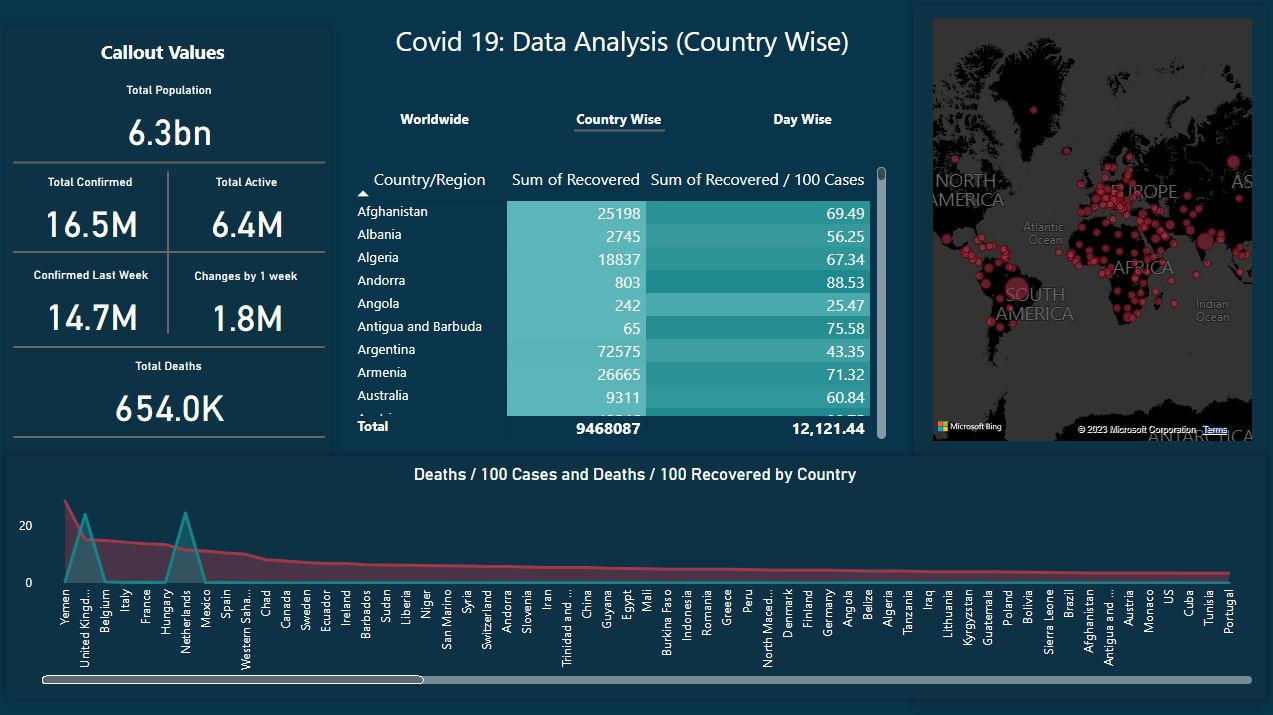

Layout of this report page (visuals, bound fields, positions):
{"tool":"powerbi","page":{"name":"Country Wise","canvas":[1280,720],"ordinal":1},"visuals":[{"type":"shape","box":[0,21,344,681],"z":0},{"type":"shape","box":[907.8,0,372.2,720.2],"z":1000},{"type":"map","title":" Total Cases by Country","fields":{"Category":["country_wise_latest.Country/Region"],"Size":["Sum(country_wise_latest.Confirmed)"]},"box":[932,17,329,433],"z":2000},{"type":"card","title":"Confirmed Last Week","fields":{"Values":["Sum(country_wise_latest.Confirmed last week)"]},"box":[18.5,272.1,154.5,78.7],"z":3000},{"type":"card","title":"Total Active","fields":{"Values":["Sum(country_wise_latest.Active)"]},"box":[173,178.8,155.5,77.8],"z":4000},{"type":"card","title":"Changes by 1 week","fields":{"Values":["Sum(country_wise_latest.1 week change)"]},"box":[172,273.1,156.5,77.8],"z":5000},{"type":"card","title":"Total Population","fields":{"Values":["Sum(WorldOMeter Data.Population)"]},"box":[18.5,87.5,310,78.7],"z":6000},{"type":"card","title":"Total Confirmed","fields":{"Values":["Sum(country_wise_latest.Confirmed)"]},"box":[17.5,178.8,154.5,78.7],"z":7000},{"type":"card","title":"Total Deaths","fields":{"Values":["Sum(country_wise_latest.Deaths)"]},"box":[17.5,362.5,311,78.7],"z":8000},{"type":"textbox","box":[38.9,37.9,256.6,40.8],"z":9000},{"type":"shape","box":[162.3,174.9,19.4,163.3],"z":10000},{"type":"shape","box":[17.5,240.1,311,32.1],"z":11000},{"type":"shape","box":[17.5,153.6,311,25.3],"z":12000},{"type":"shape","box":[17.5,323.6,311,54.4],"z":13000},{"type":"shape","box":[17.5,414,311,54.4],"z":14000},{"type":"textbox","box":[395,21,472,55],"z":15000},{"type":"pageNavigator","box":[352,97,543,50],"z":16000},{"type":"shape","box":[577.8,122,91.3,24.6],"z":17000},{"type":"shape","box":[0,450,1280,263],"z":18000},{"type":"areaChart","title":"Deaths / 100 Cases and Deaths / 100 Recovered by Country","fields":{"Y":["Sum(country_wise_latest.Deaths / 100 Cases)"],"Category":["country_wise_latest.Country/Region"],"Y2":["Sum(country_wise_latest.Deaths / 100 Recovered)"]},"box":[18,468,1243,225],"z":19000},{"type":"pivotTable","fields":{"Values":["Sum(country_wise_latest.Recovered)","Sum(country_wise_latest.Recovered / 100 Cases)"],"Rows":["country_wise_latest.Country/Region"]},"box":[352,166,543,282],"z":20000}]}

Visuals, with their boxes in screenshot pixels (x1, y1, x2, y2), scaled from the page's 1280x720 canvas onto the 1273x715 screenshot:
shape: (0,21,342,697)
shape: (903,0,1272,714)
" Total Cases by Country" map: (927,17,1254,447)
"Confirmed Last Week" card: (18,270,172,348)
"Total Active" card: (172,178,327,255)
"Changes by 1 week" card: (171,271,327,348)
"Total Population" card: (18,87,327,165)
"Total Confirmed" card: (17,178,171,256)
"Total Deaths" card: (17,360,327,438)
textbox: (39,38,294,78)
shape: (161,174,181,336)
shape: (17,238,327,270)
shape: (17,153,327,178)
shape: (17,321,327,375)
shape: (17,411,327,465)
textbox: (393,21,862,75)
pageNavigator: (350,96,890,146)
shape: (575,121,665,146)
shape: (0,447,1272,708)
"Deaths / 100 Cases and Deaths / 100 Recovered by Country" areaChart: (18,465,1254,688)
pivotTable - Sum(country_wise_latest.Recovered) x Sum(country_wise_latest.Recovered / 100 Cases): (350,165,890,445)
